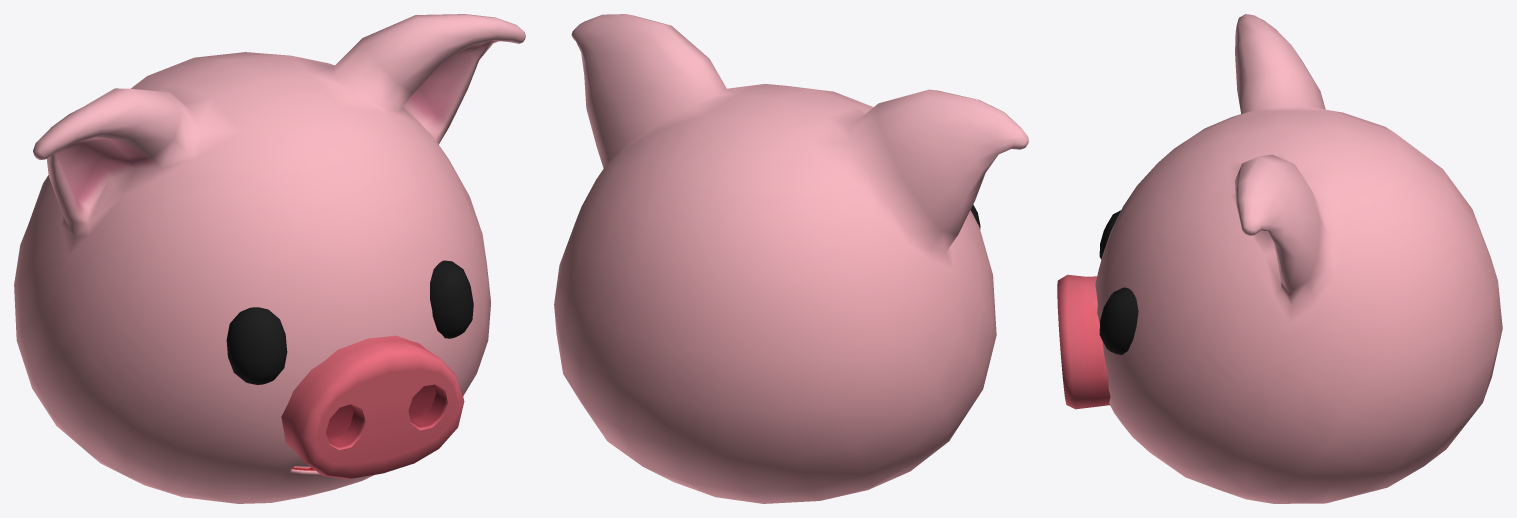
The model's file is PigHead.FBX.
The picture shows the model from 3 angles, left to right: view 1: azimuth 30°, elevation 25°; view 2: azimuth 150°, elevation 25°; view 3: azimuth 270°, elevation 25°; orthographic projection. The views are drawn at different scales.
Parts seen in each view (by area): view 1: Head_Pig; view 2: Head_Pig; view 3: Head_Pig.
Boxes of the visible parts, x1=… form: Head_Pig: x1=14, y1=14, x2=525, y2=503; Head_Pig: x1=554, y1=14, x2=1028, y2=503; Head_Pig: x1=1057, y1=14, x2=1502, y2=503.
Bounding box in the file's own units: 49.79 × 42.41 × 44.91.
